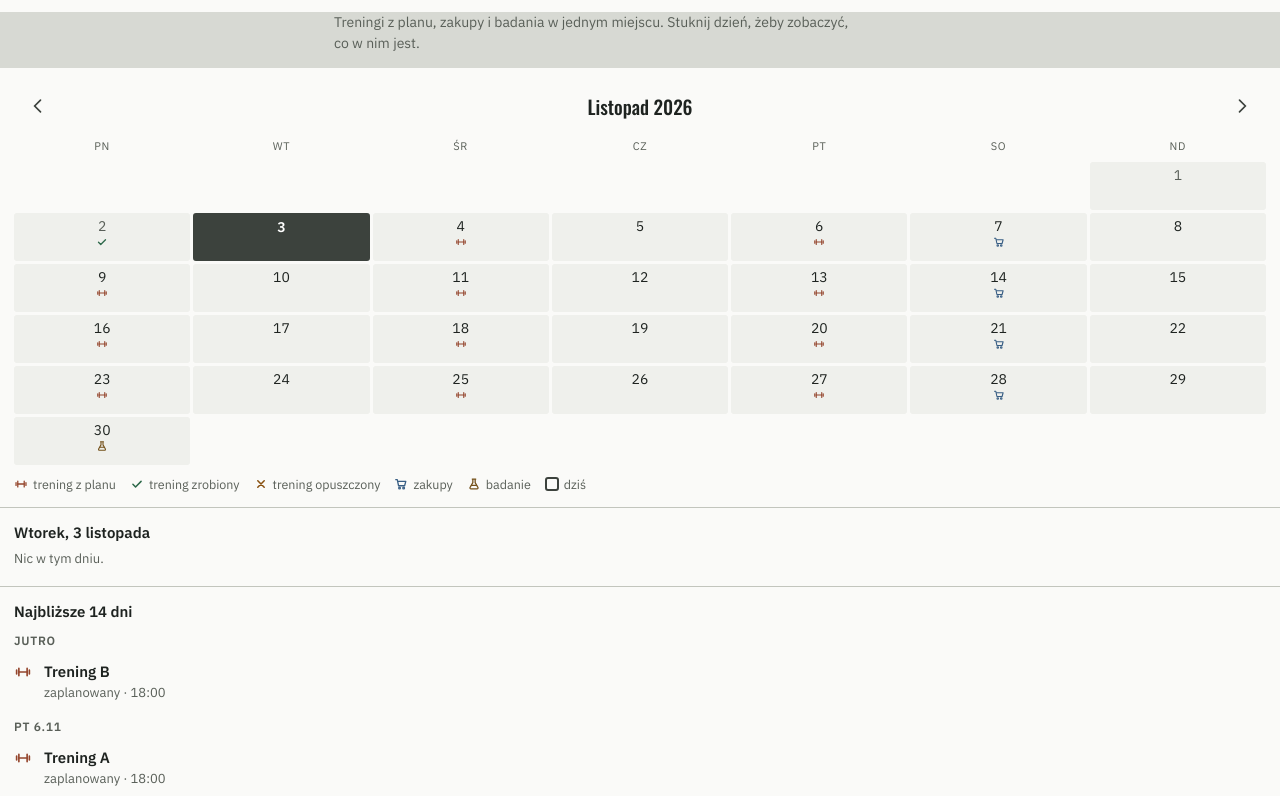
it: kalendarz — miesiąc i dni › stuknięcie dnia pokazuje jego wydarzenia, z odnośnikiem do listy zakupów
The width and height of the screenshot is (1280, 796).
Click the button named "sobota, 7 listopada: zakupy": click(999, 236) [910, 212, 1087, 260]
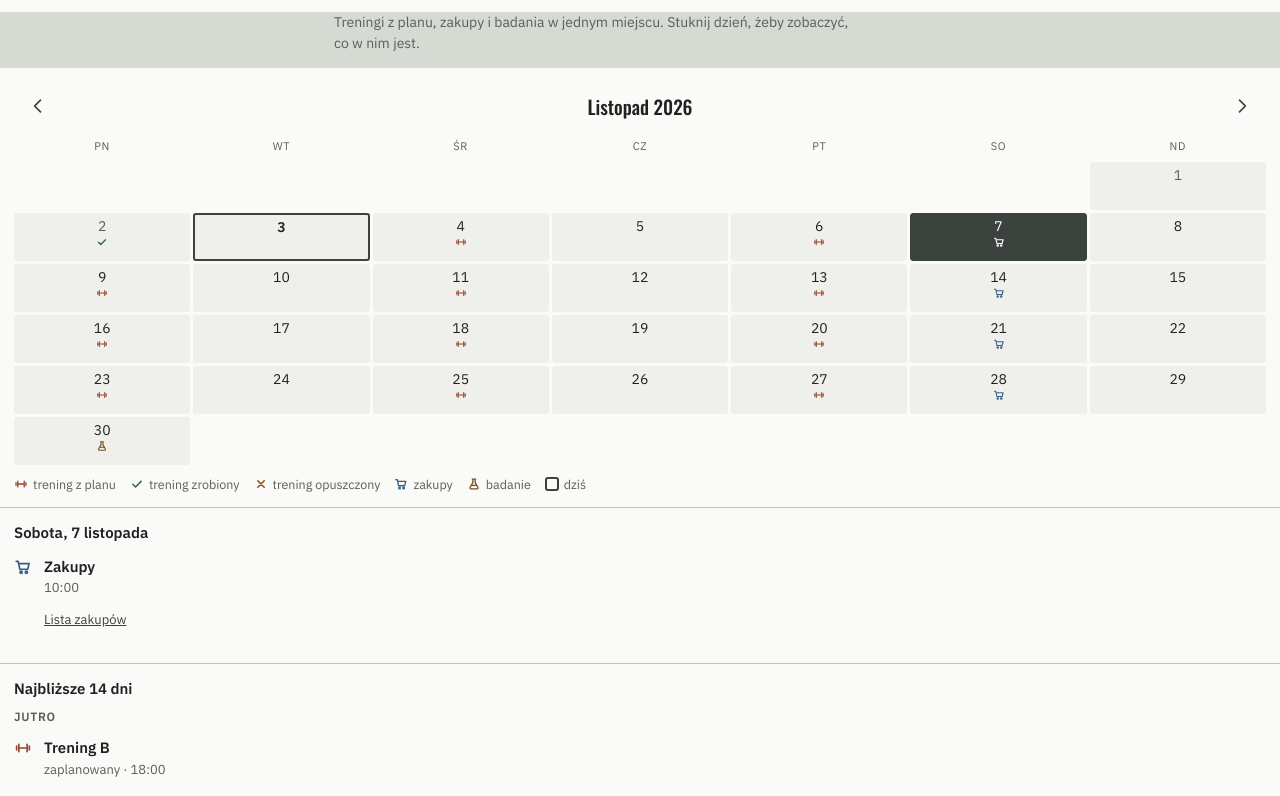
Check: the text "Zakupy" is shown, box [44, 557, 95, 576]
Check: the text "10:00" is shown, box [44, 579, 79, 596]
